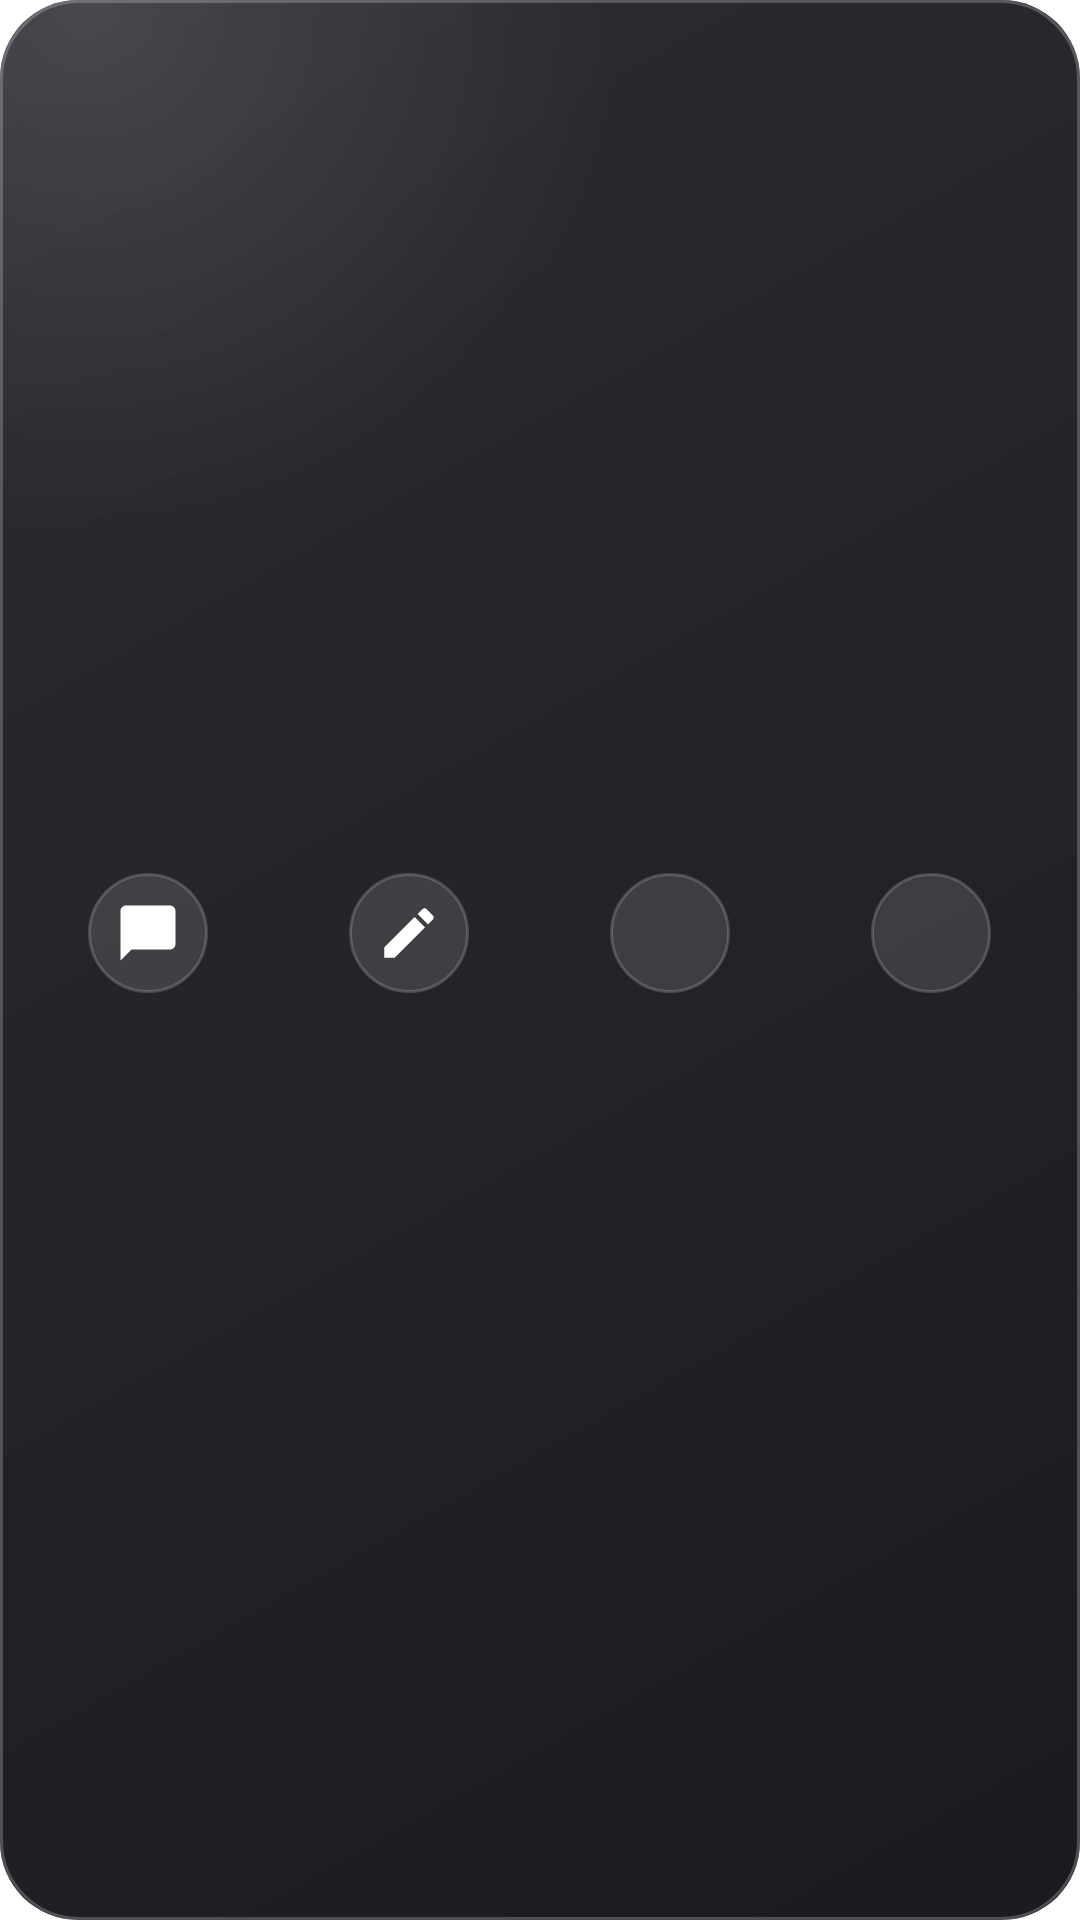

Icon click points for this 1080 x 1920 phone screenshot, format point (x, y):
juzzio widget chat: point (148, 933)
juzzio widget edit: point (409, 933)
